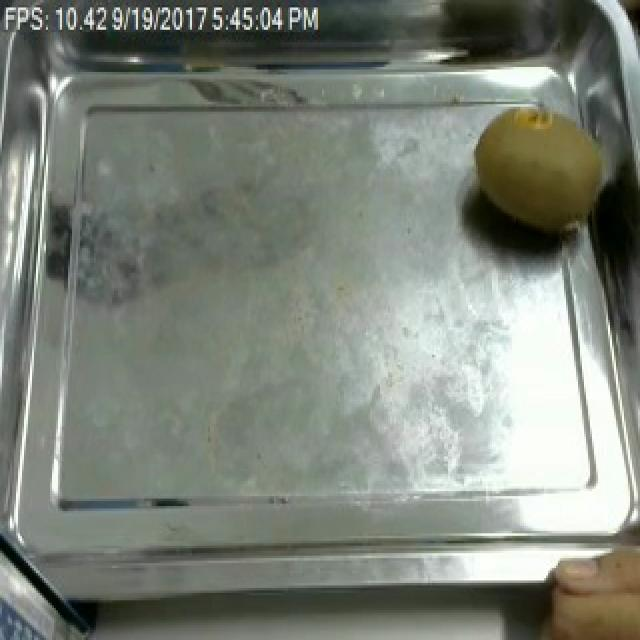Fruit: (462, 97, 620, 243), (526, 526, 640, 640)
